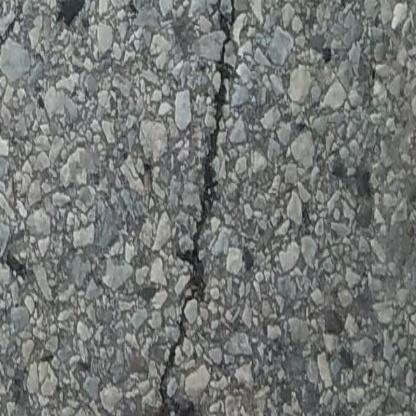Cracks: (132, 0, 241, 416), (0, 14, 22, 116)
